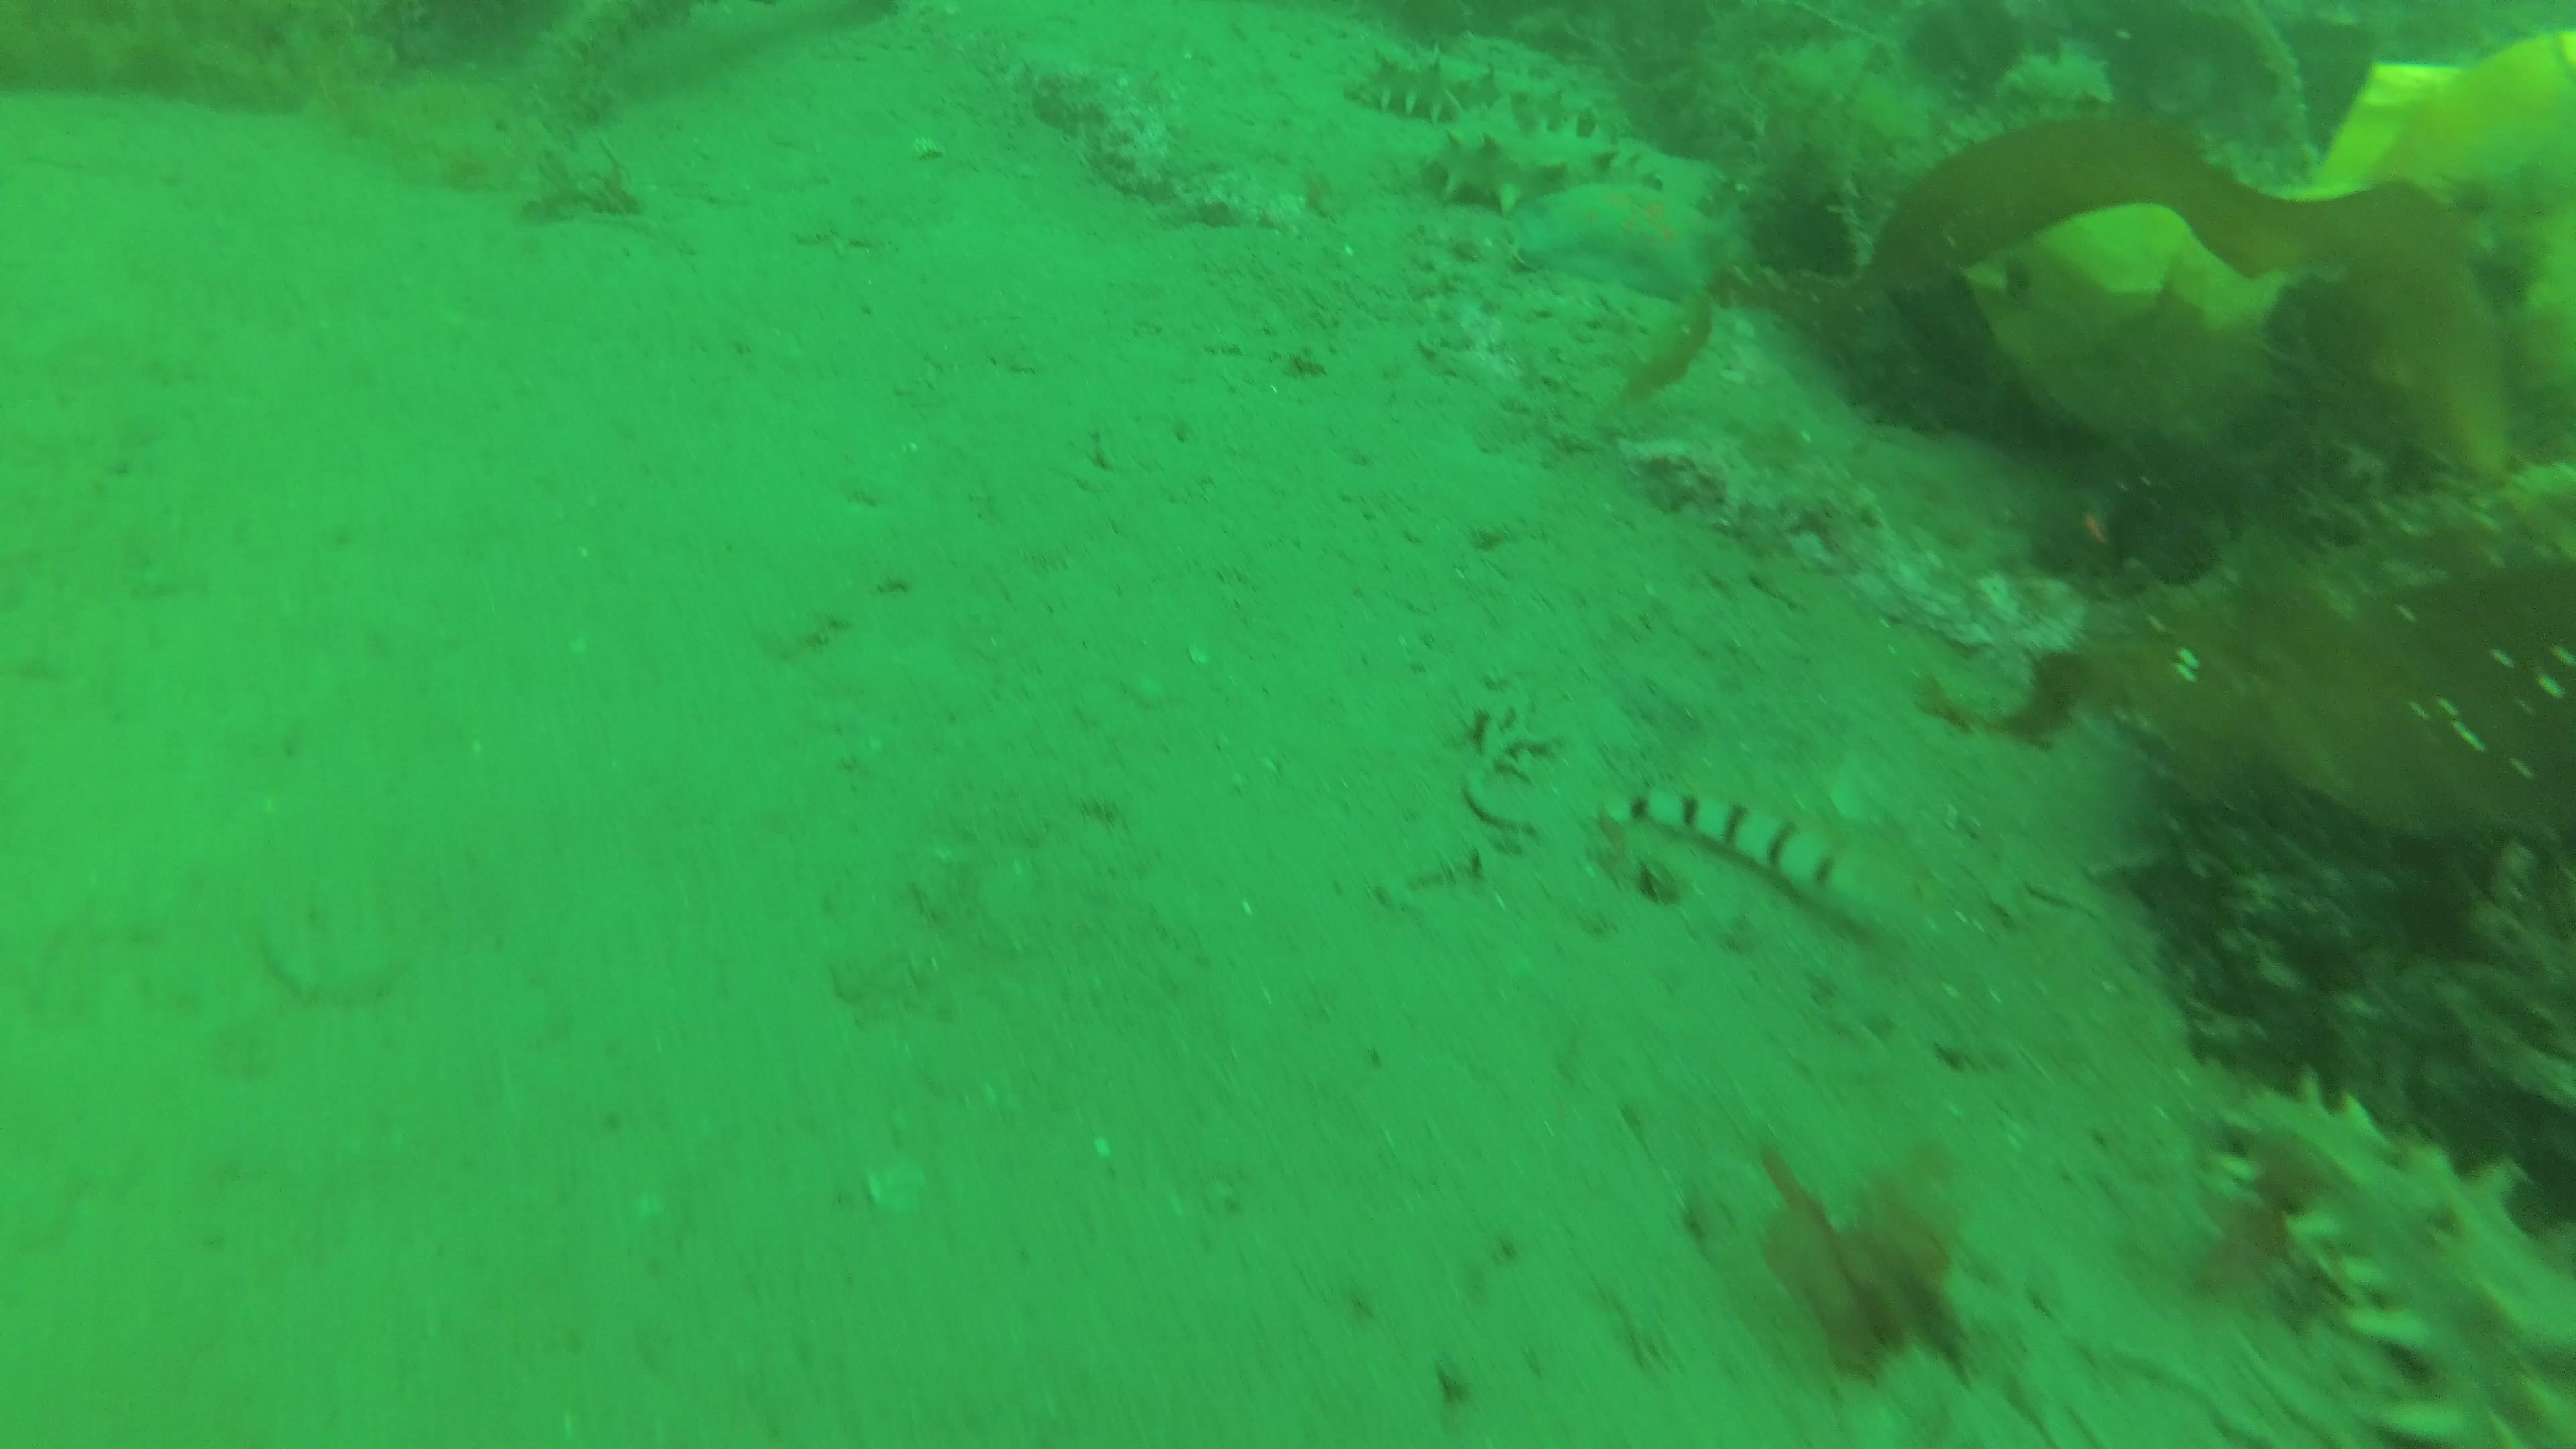holothurian: (2224, 1065, 2576, 1449), (1421, 90, 1672, 225), (1502, 179, 1737, 303), (1357, 41, 1599, 136)
